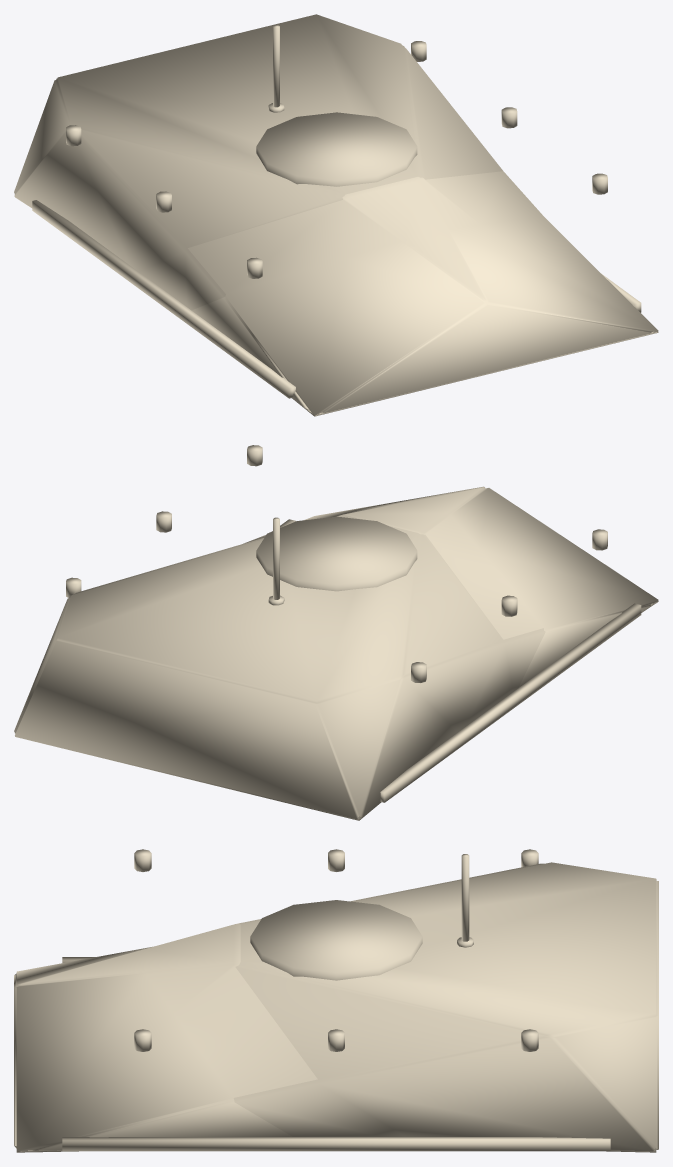
The model's file is wedge_scout_tidemark.glb.
3 views of the same model, one above another, from view 1: azimuth 30°, elevation 25°; view 2: azimuth 150°, elevation 25°; view 3: azimuth 270°, elevation 25° (orthographic). The views are drawn at different scales.
Visible parts, largest first — view 1: wedge_scout_tidemark; view 2: wedge_scout_tidemark; view 3: wedge_scout_tidemark.
Part boxes in pixels (x1,y1,x2,y2): wedge_scout_tidemark: (14, 14, 658, 416); wedge_scout_tidemark: (14, 445, 658, 820); wedge_scout_tidemark: (14, 849, 658, 1152).
Size of the model in its own units: 2.06 by 1.06 by 3.
